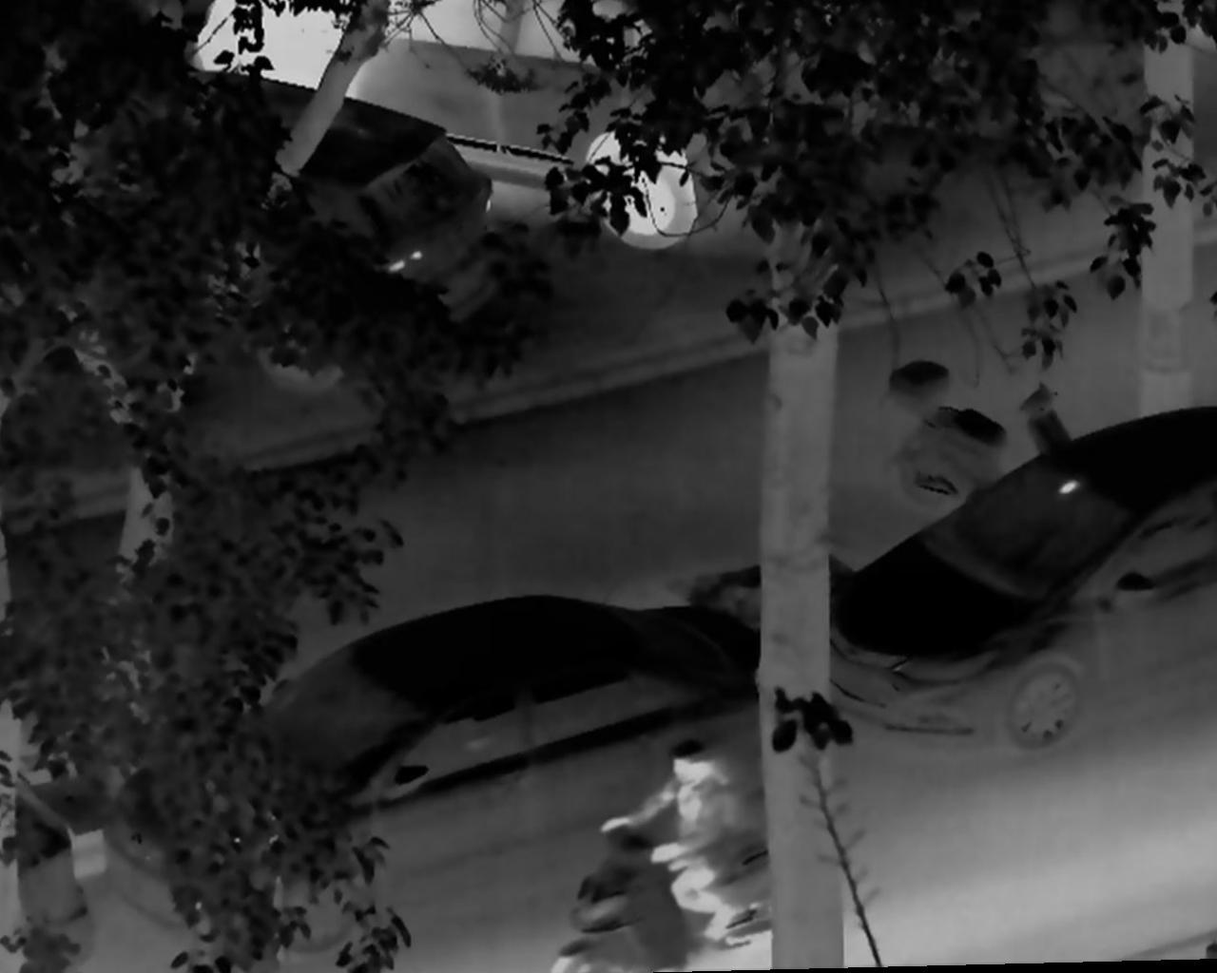person: (594, 737, 739, 946)
